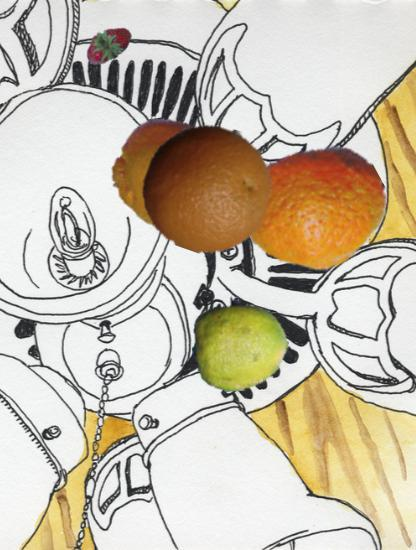Limes: (192, 294, 289, 391)
Mandarine: (244, 137, 387, 280), (106, 118, 220, 232)
Orange: (142, 123, 272, 253)
Peach: (302, 176, 368, 242)
Strawberry: (82, 19, 134, 71)
